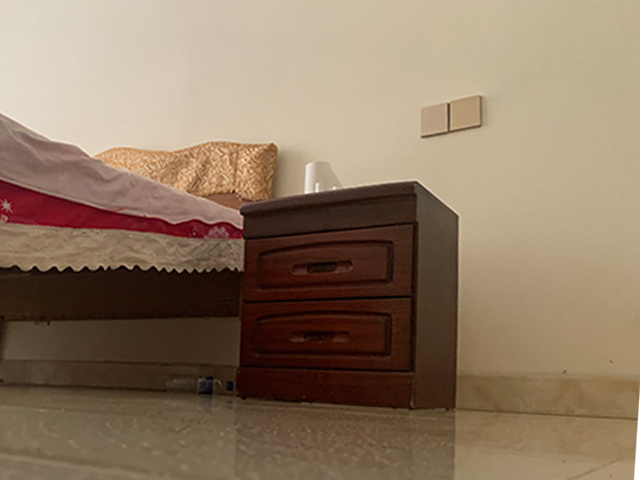bed: (1, 113, 278, 321)
cabinet: (237, 180, 460, 412)
